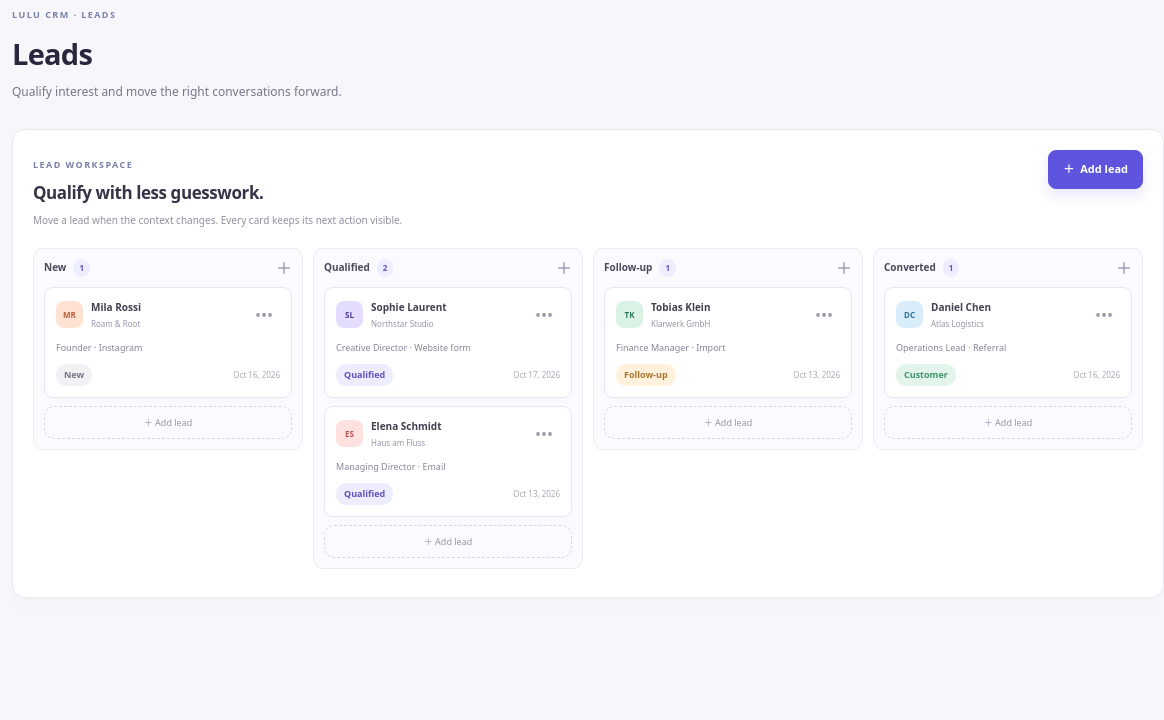
Scenario: Leads page › puts the lead back and shows an error when the API refuses
Expected: the button "Mila Rossi" is shown, [91,300,240,315]
Click the button "•••" in the row of "Haus am Fluss" at coordinates (544, 434), box [528,418,560,450]
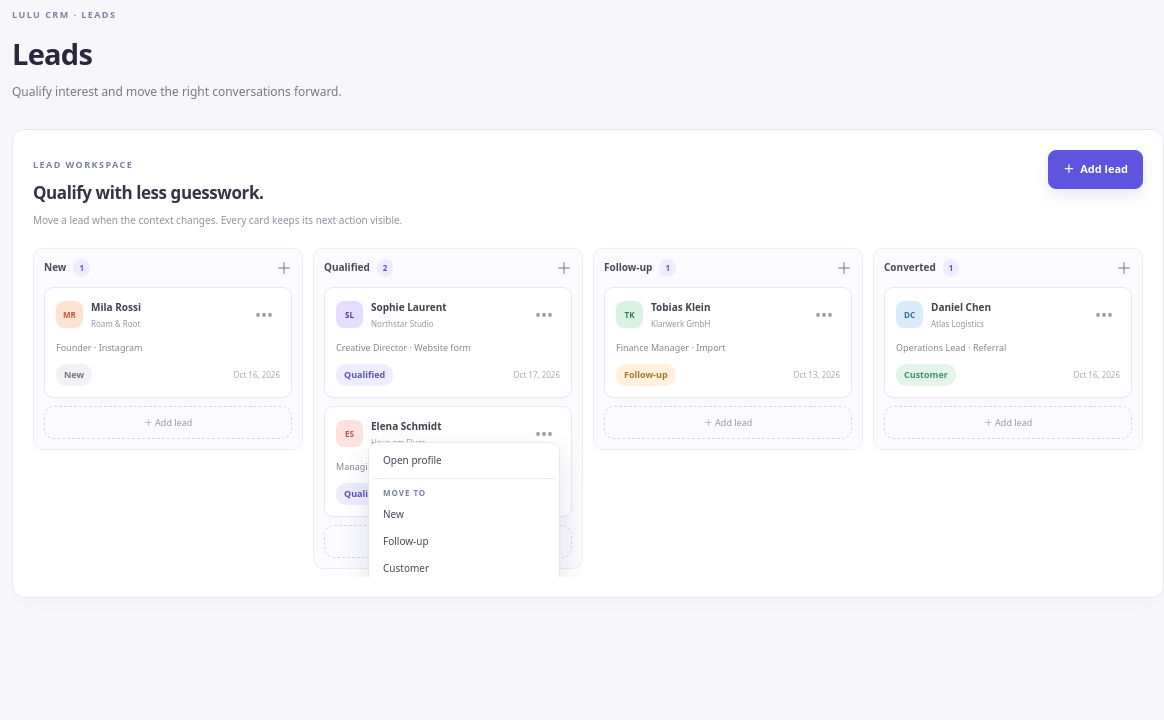
Click the menu item "Follow-up" at coordinates (464, 541), box [373,528,555,555]
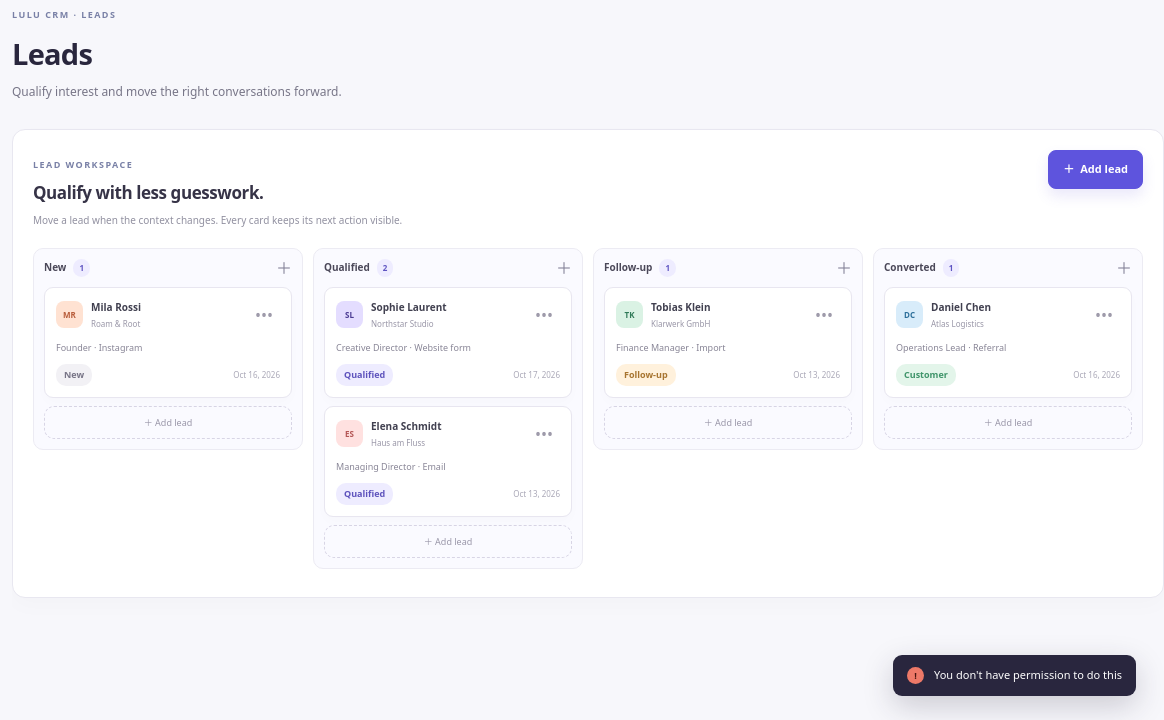
Expected: the button "Elena Schmidt" is shown, [371,419,520,434]
Expected: the text "You don't have permission to do this" is shown, [934,667,1122,682]
